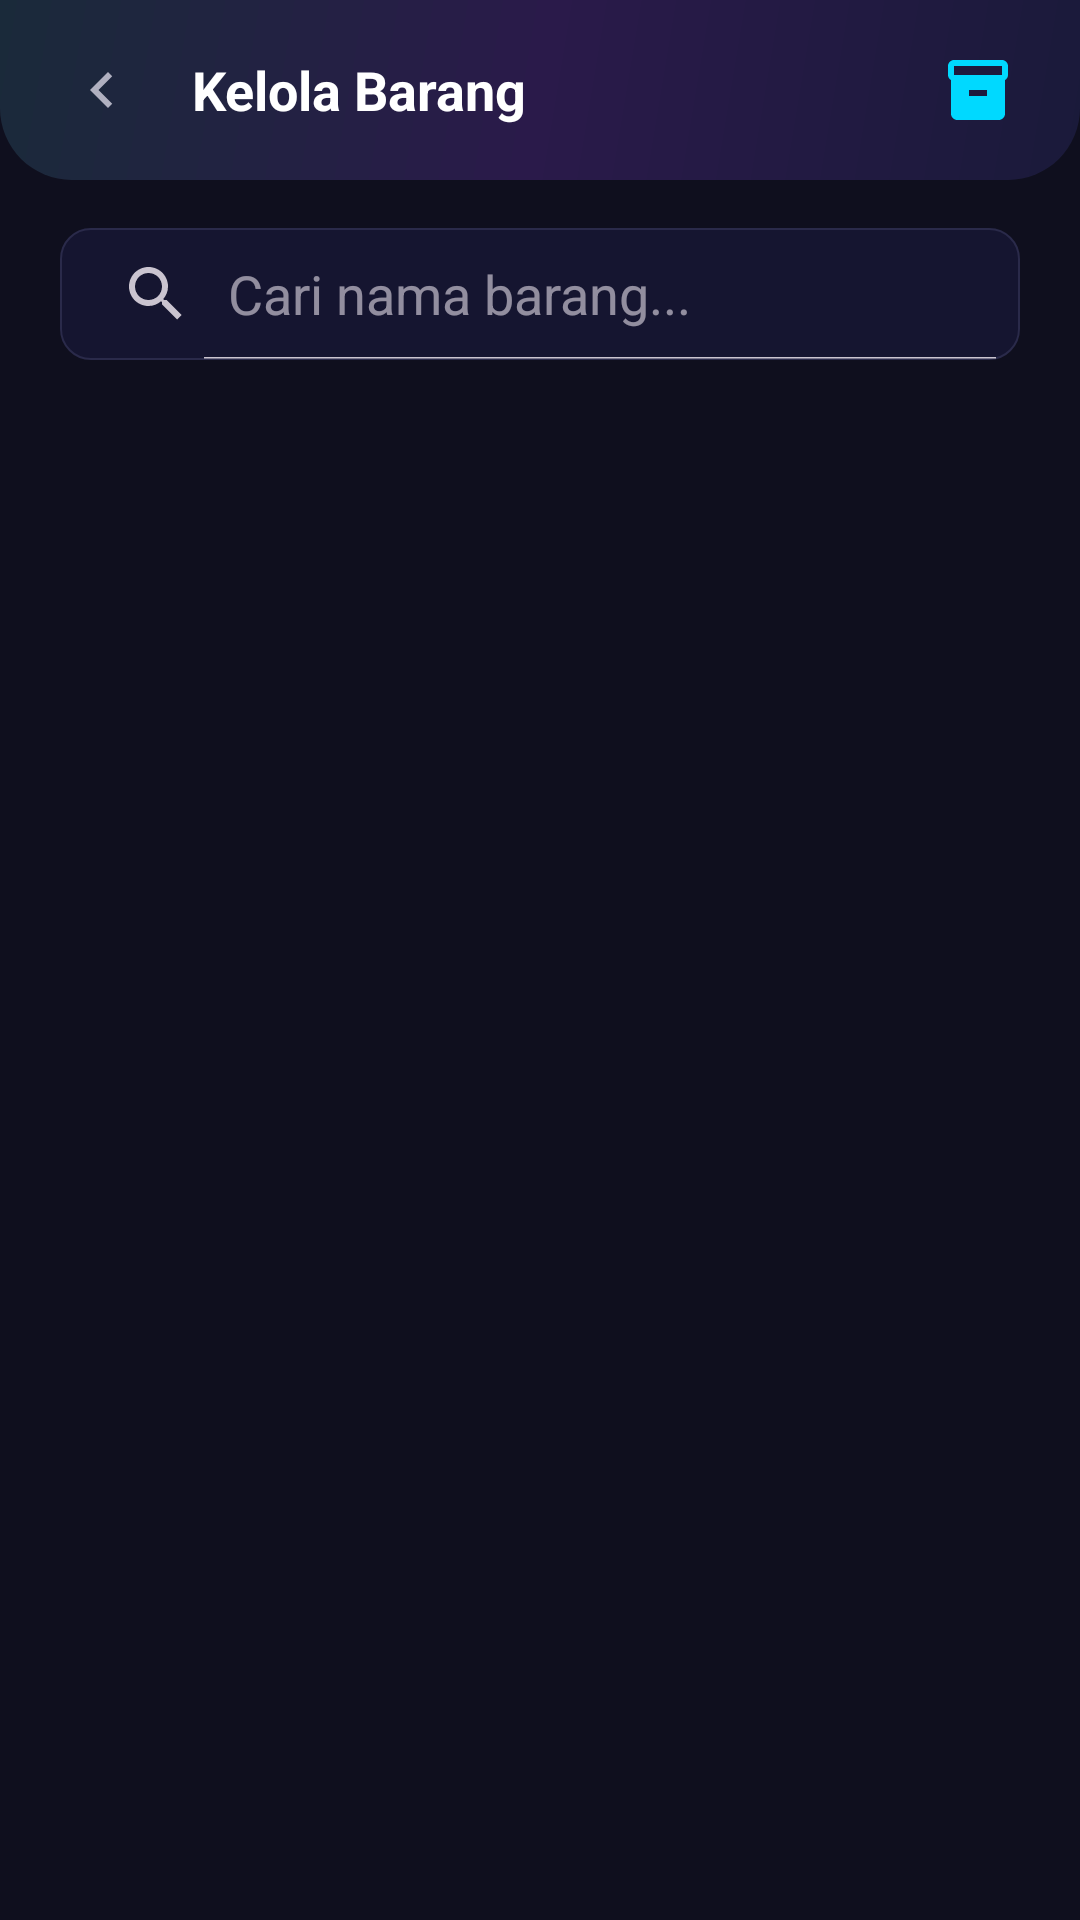

Locate icon controls on the screen. Image size 1080px x 1920px, boxes as [left=x1, top=y1, right=x2, bottom=y2].
Kembali: [left=90, top=72, right=112, bottom=108]
